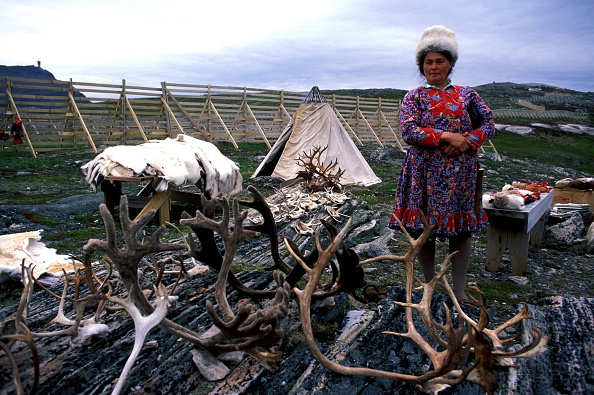em pe: (384, 31, 500, 306)
